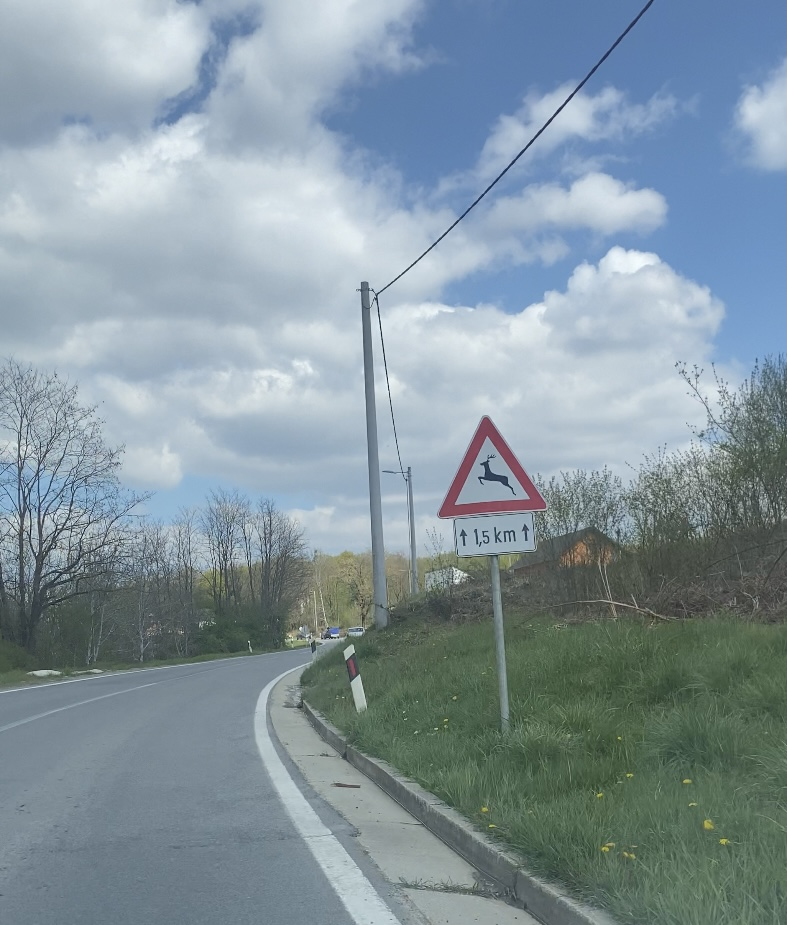Divljač na cesti: (437, 415, 547, 518)
